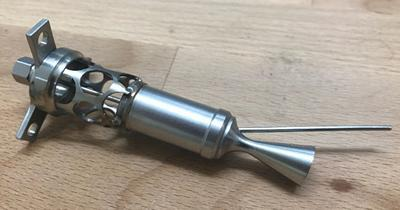thruster: (222, 118, 317, 185)
